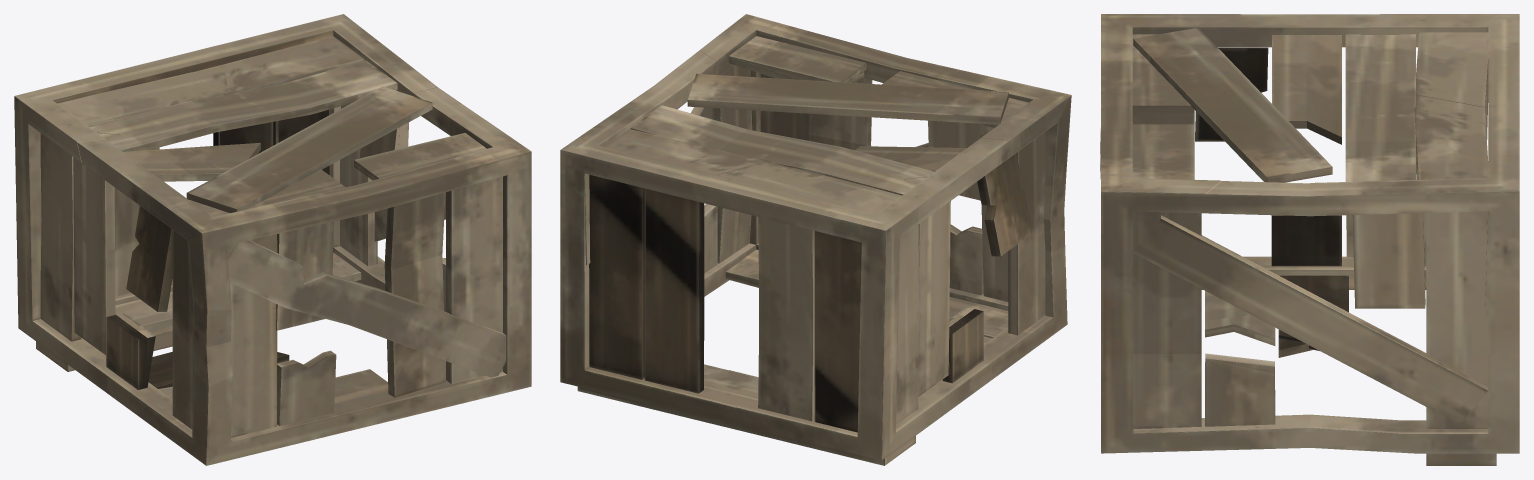
Rendered from BreakableCrateSmall_Empty.glb.
3 renders of one model, left to right at view 1: azimuth 30°, elevation 25°; view 2: azimuth 150°, elevation 25°; view 3: azimuth 270°, elevation 25°, orthographic. The views are drawn at different scales.
Parts seen in each view (by area): view 1: BreakableCrateSmall_Empty, BreakableCrate_1_Gib5, BreakableCrate_1_Gib2, BreakableCrate_1_Gib1, BreakableCrate_1_Gib3, BreakableCrate_1_Gib7, BreakableCrate_1_Gib4, BreakableCrate_1_Gib8, BreakableCrate_1_Gib6; view 2: BreakableCrateSmall_Empty, BreakableCrate_1_Gib5, BreakableCrate_1_Gib2, BreakableCrate_1_Gib4, BreakableCrate_1_Gib7, BreakableCrate_1_Gib1, BreakableCrate_1_Gib8, BreakableCrate_1_Gib3, BreakableCrate_1_Gib6; view 3: BreakableCrateSmall_Empty, BreakableCrate_1_Gib7, BreakableCrate_1_Gib4, BreakableCrate_1_Gib8, BreakableCrate_1_Gib5, BreakableCrate_1_Gib2, BreakableCrate_1_Gib3, BreakableCrate_1_Gib6, BreakableCrate_1_Gib1.
Part boxes in pixels (box(x1,y1,x2,y2)): BreakableCrateSmall_Empty: box(68, 57, 530, 465); BreakableCrate_1_Gib5: box(14, 68, 355, 419); BreakableCrate_1_Gib2: box(354, 119, 531, 405); BreakableCrate_1_Gib1: box(139, 230, 449, 465); BreakableCrate_1_Gib3: box(135, 169, 368, 347); BreakableCrate_1_Gib7: box(124, 14, 437, 154); BreakableCrate_1_Gib4: box(186, 86, 432, 212); BreakableCrate_1_Gib8: box(90, 60, 396, 151); BreakableCrate_1_Gib6: box(322, 103, 385, 290); BreakableCrateSmall_Empty: box(560, 30, 1057, 465); BreakableCrate_1_Gib5: box(707, 168, 1005, 465); BreakableCrate_1_Gib2: box(699, 14, 906, 296); BreakableCrate_1_Gib4: box(687, 73, 1008, 124); BreakableCrate_1_Gib7: box(561, 86, 782, 343); BreakableCrate_1_Gib1: box(949, 132, 1067, 369); BreakableCrate_1_Gib8: box(631, 105, 934, 194); BreakableCrate_1_Gib3: box(882, 58, 1071, 219); BreakableCrate_1_Gib6: box(584, 268, 734, 403); BreakableCrateSmall_Empty: box(1100, 14, 1519, 465); BreakableCrate_1_Gib7: box(1310, 73, 1519, 315); BreakableCrate_1_Gib4: box(1133, 27, 1332, 182); BreakableCrate_1_Gib8: box(1345, 34, 1415, 181); BreakableCrate_1_Gib5: box(1251, 14, 1519, 357); BreakableCrate_1_Gib2: box(1101, 108, 1310, 452); BreakableCrate_1_Gib3: box(1101, 14, 1250, 113); BreakableCrate_1_Gib6: box(1310, 414, 1488, 433); BreakableCrate_1_Gib1: box(1205, 256, 1250, 320).
Bounding box in the file's own units: 0.9043 × 0.6513 × 0.8888.
Materials: 1 (1 with a texture image).
